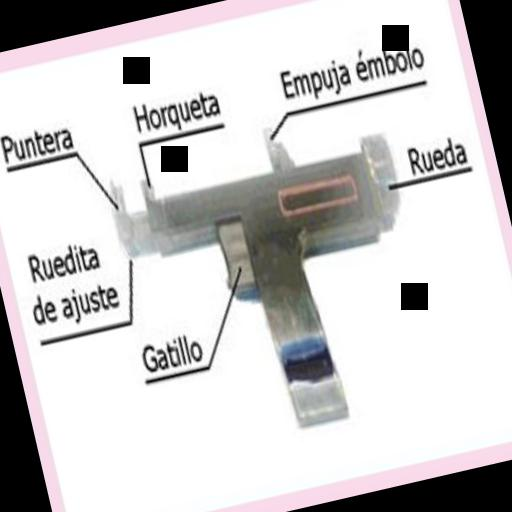Handgun: (100, 116, 458, 462)
